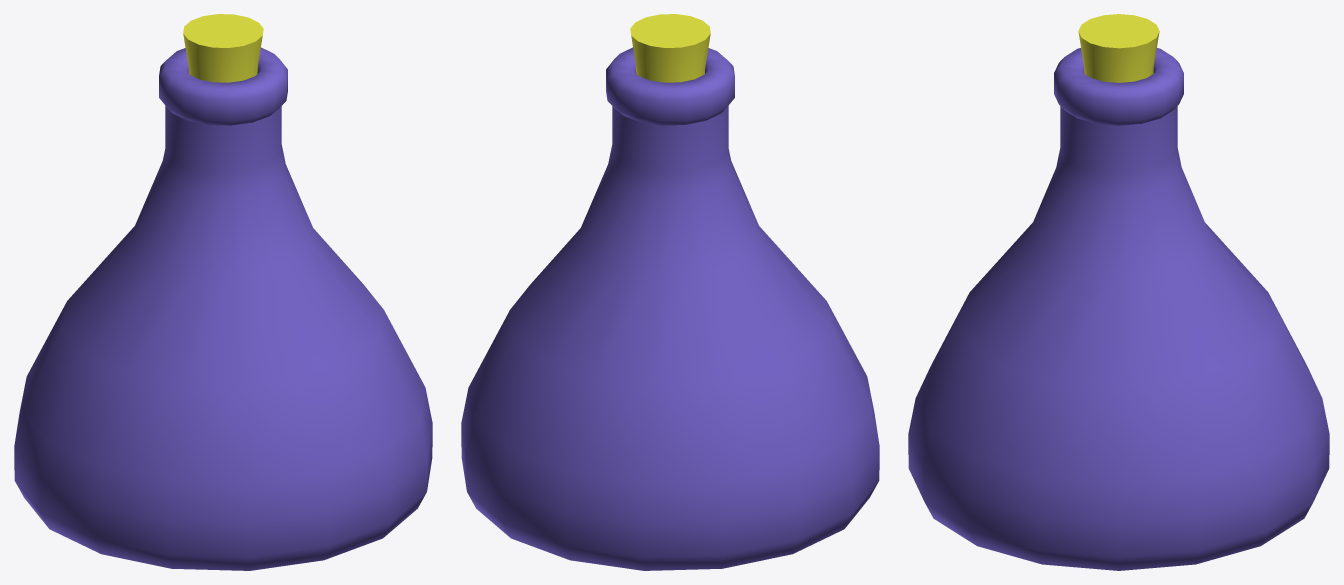
Rendered from Potion_01.FBX.
3 views of the same model, side by side, from view 1: azimuth 30°, elevation 25°; view 2: azimuth 150°, elevation 25°; view 3: azimuth 270°, elevation 25° (orthographic).
Visible parts, largest first — view 1: Potion_01; view 2: Potion_01; view 3: Potion_01.
Part boxes in pixels (x1=…): Potion_01: x1=14, y1=14, x2=432, y2=570; Potion_01: x1=461, y1=14, x2=879, y2=570; Potion_01: x1=908, y1=14, x2=1329, y2=570.
Size of the model in its own units: 0.2199 by 0.2674 by 0.2199.
